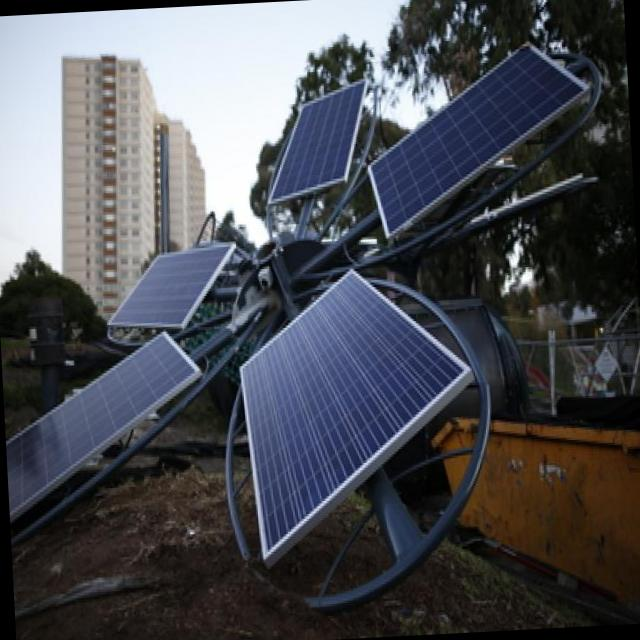no faulty: (248, 278, 466, 539), (371, 51, 575, 227), (6, 340, 193, 513), (274, 84, 360, 198), (117, 249, 227, 322)
